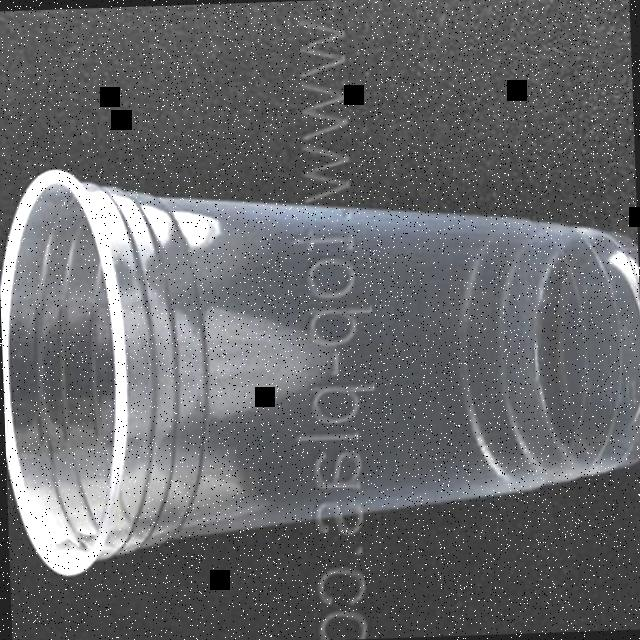plastic_box: (0, 150, 640, 578)
